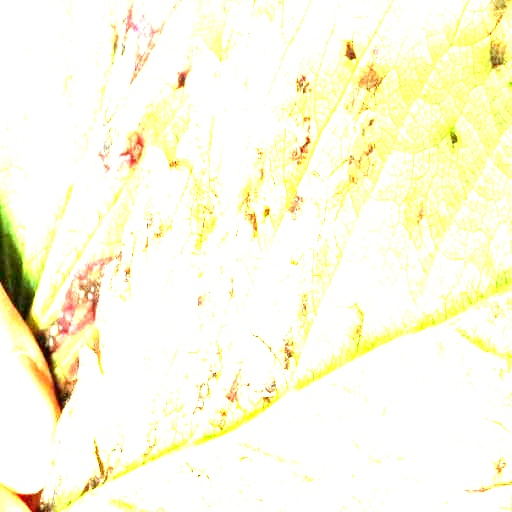Angular Leafspot: (34, 0, 511, 511)
